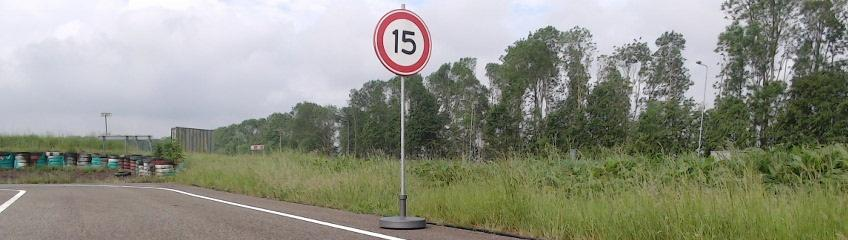Speed-limit-15km-h-: (373, 9, 432, 76)
